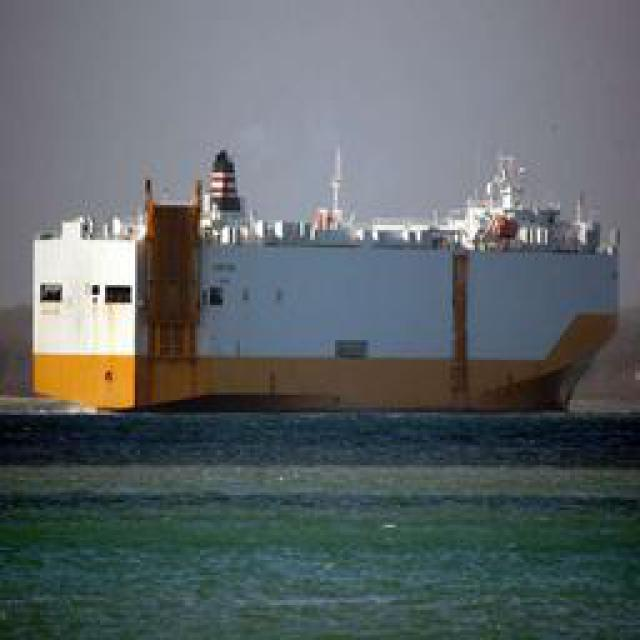Ship: (33, 138, 621, 416)
